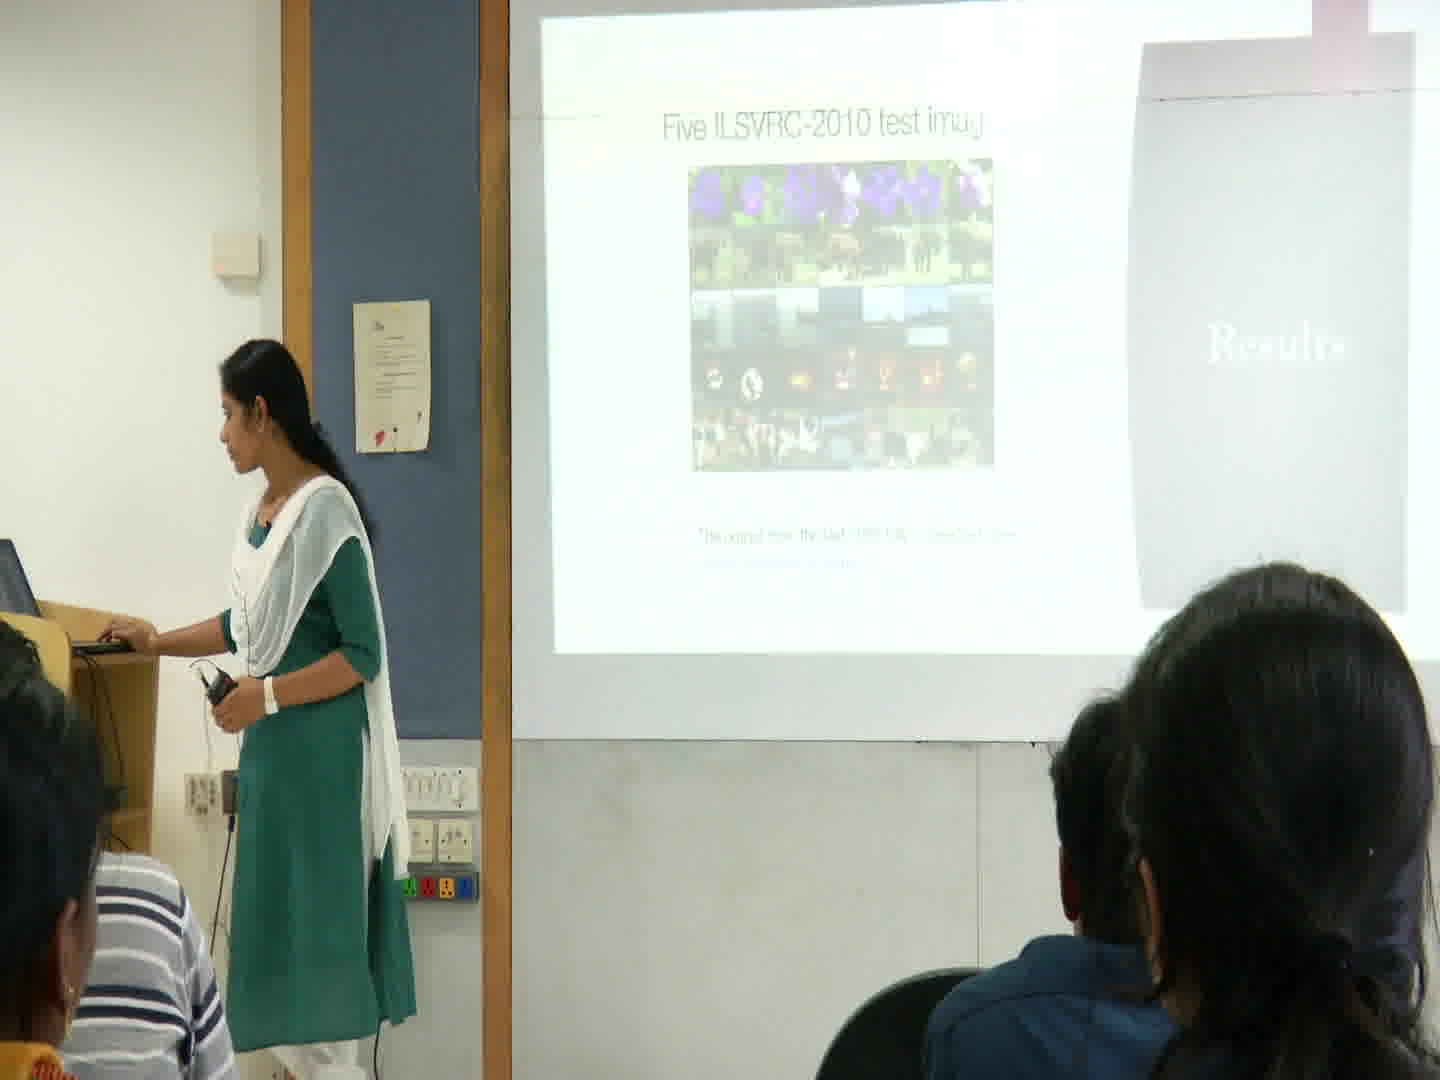fig: (680, 154, 1003, 479)
